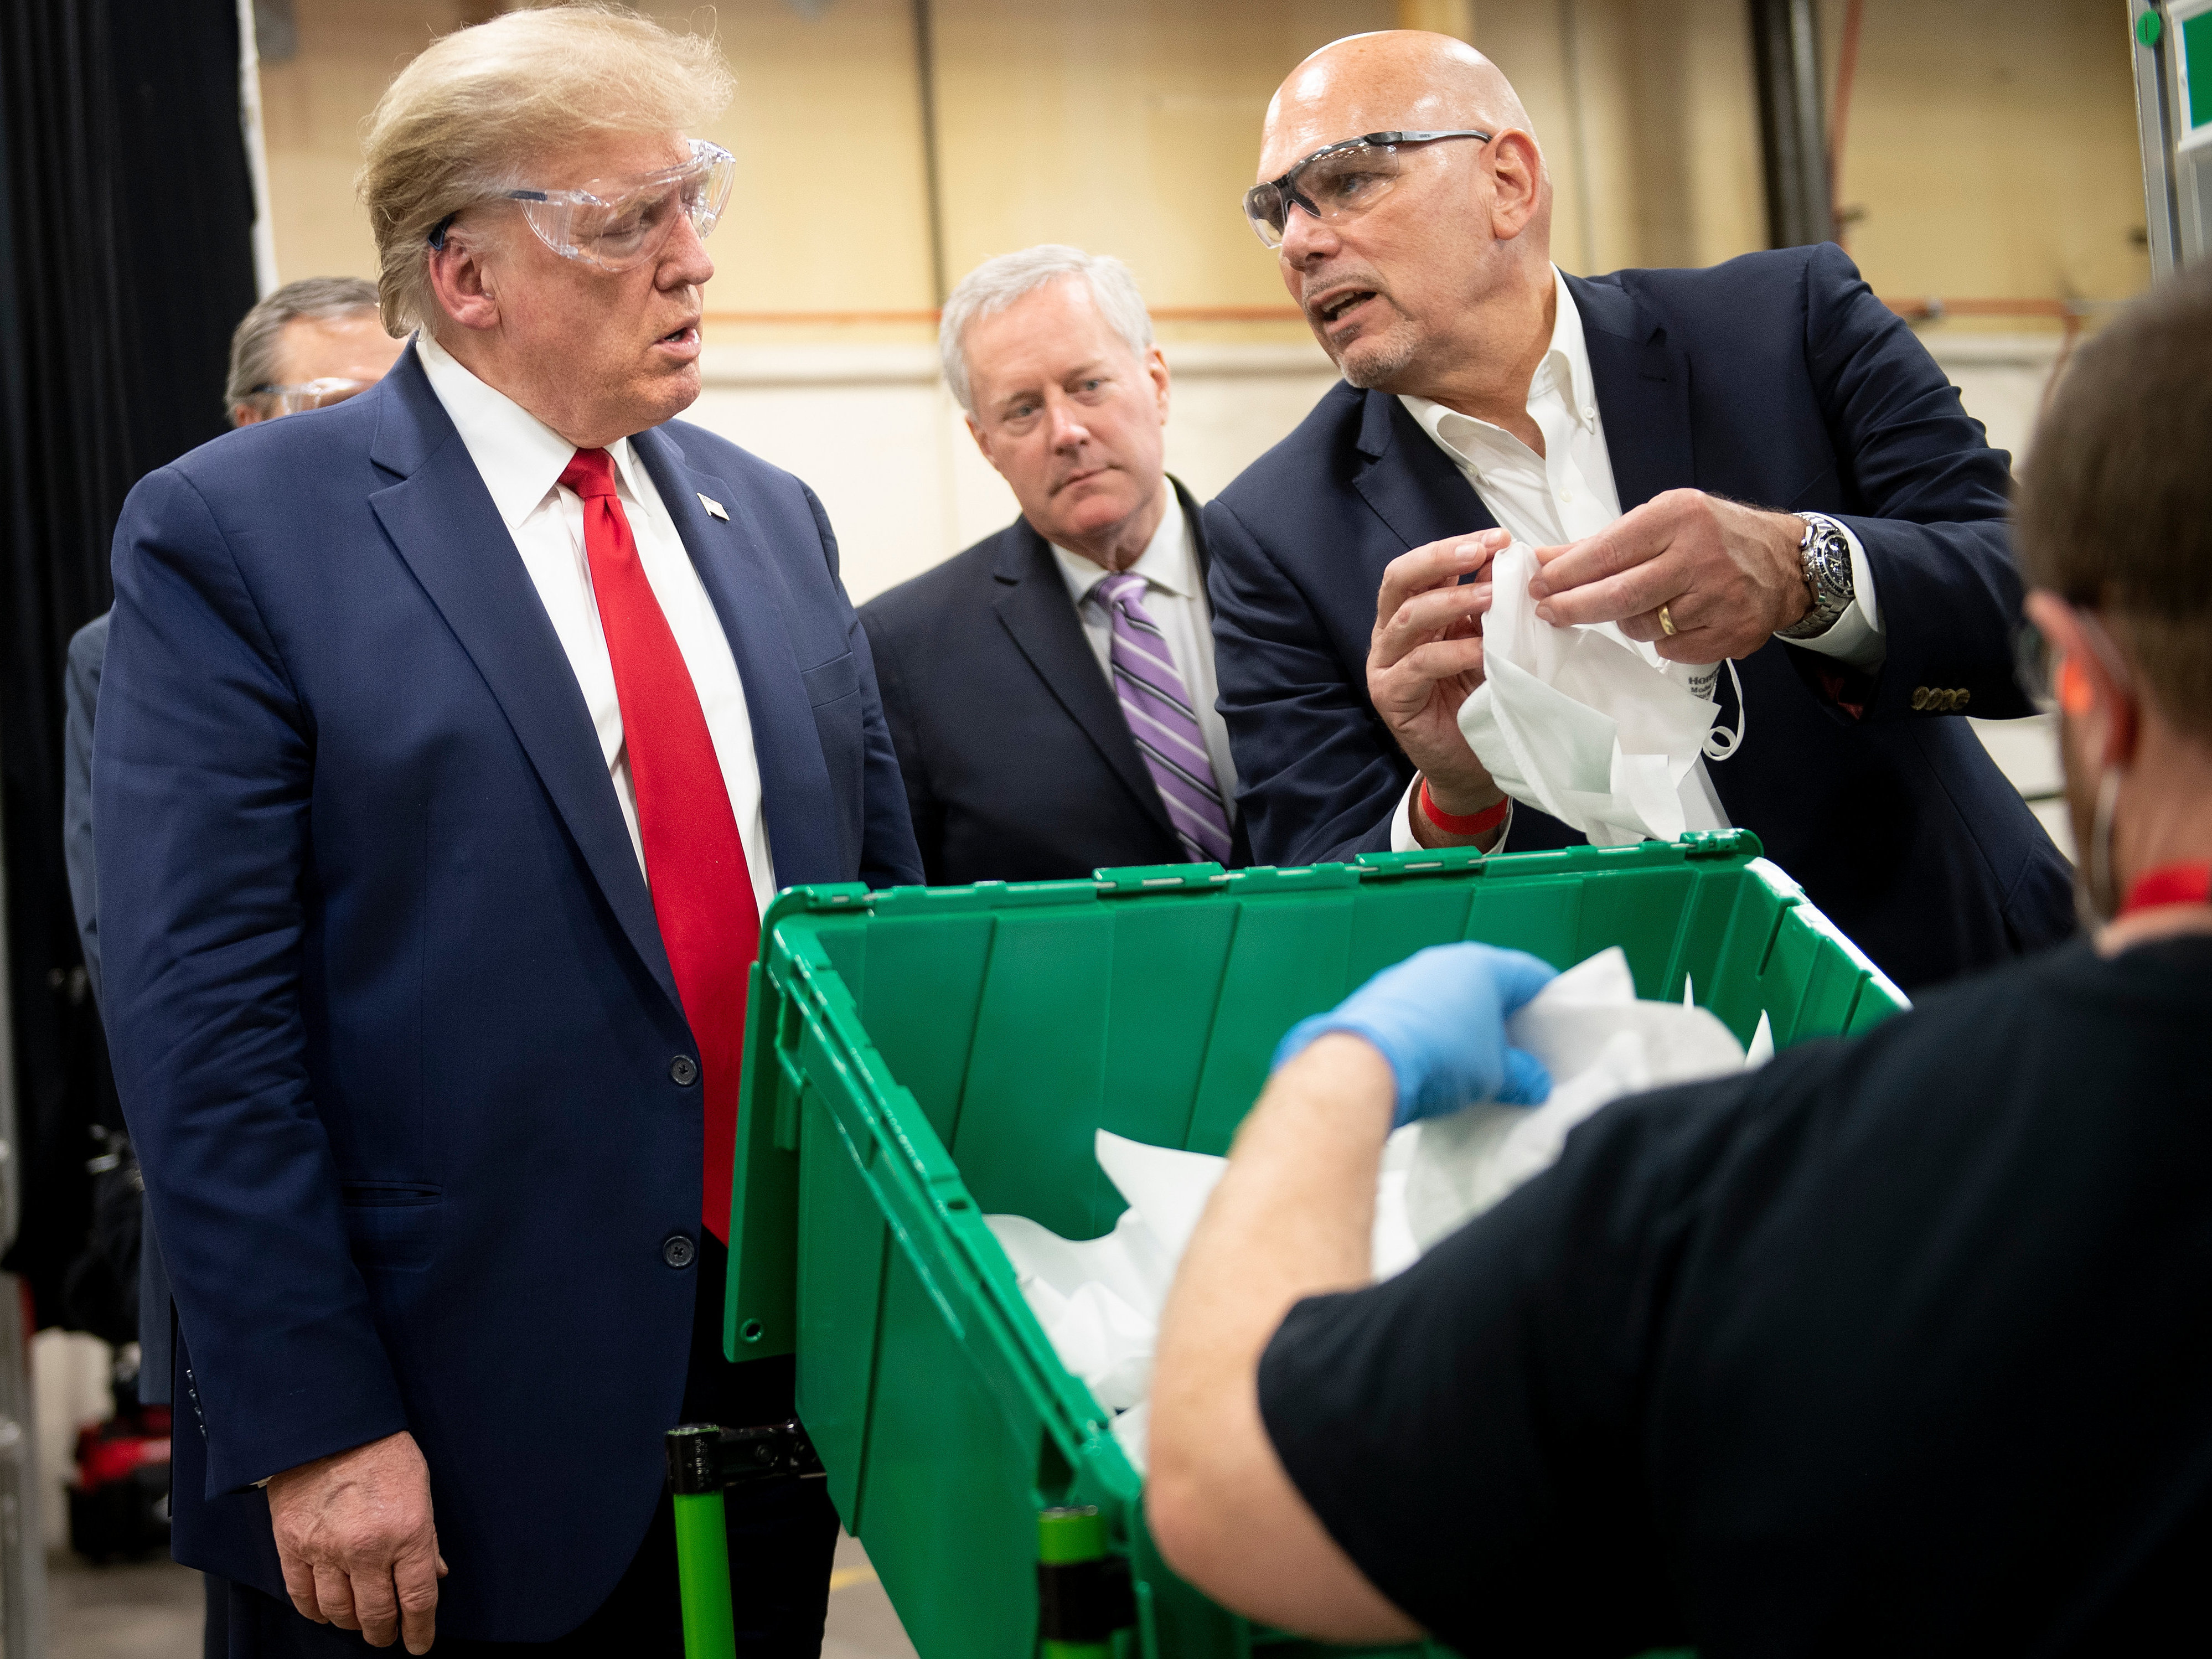without_mask: (511, 141, 733, 442), (1255, 101, 1492, 373), (968, 321, 1170, 518)
